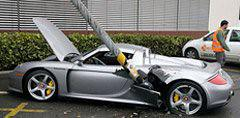doorouter-dent: (67, 67, 127, 100)
quaterpanel-dent: (135, 62, 175, 106)
